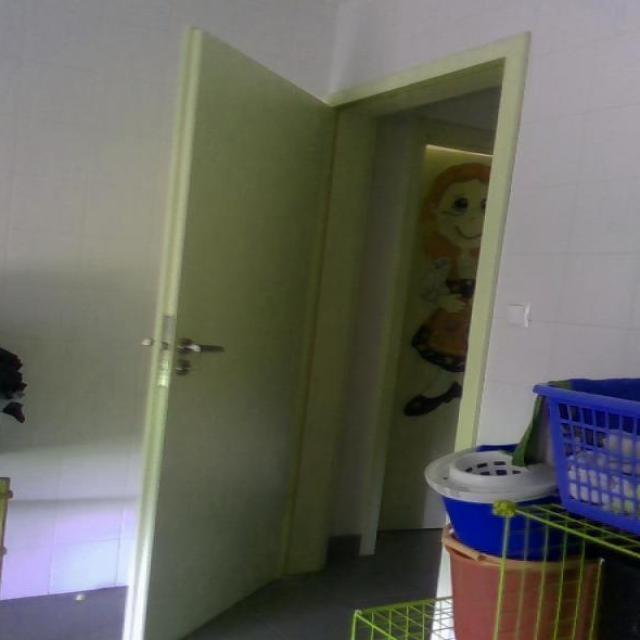door: (121, 25, 338, 638)
